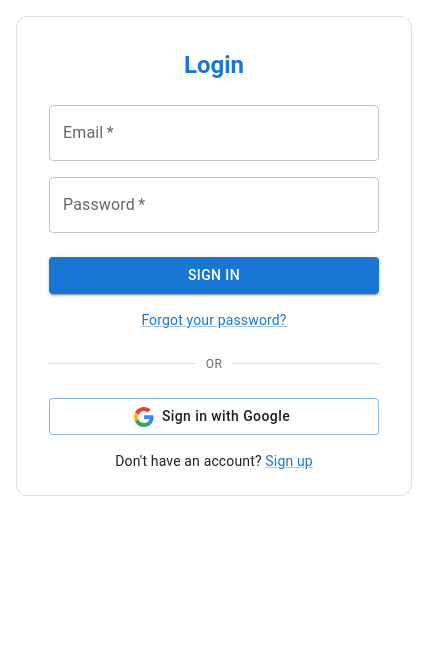
Test: Login — unconfirmed-account branch (SMA-320) › shows the dedicated message and the resend action on the gate sentinel
Type "alex@example.com" into the field labelled "Email *". click: (214, 133)
box: left=49, top=105, right=379, bottom=161
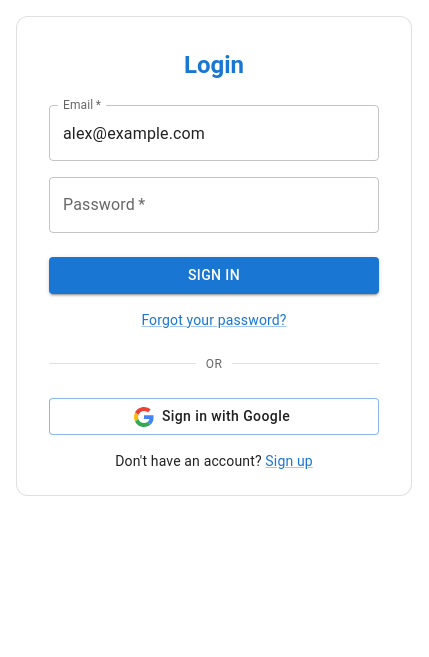
Type "Str0ng!Pass" into the password field labelled "Password *". click: (214, 205)
box: left=49, top=177, right=379, bottom=233
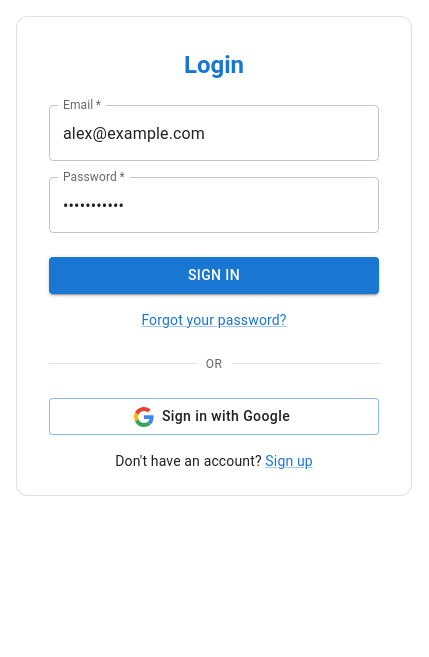
Click the button "Sign In". click: click(214, 275)
box: left=49, top=257, right=379, bottom=294
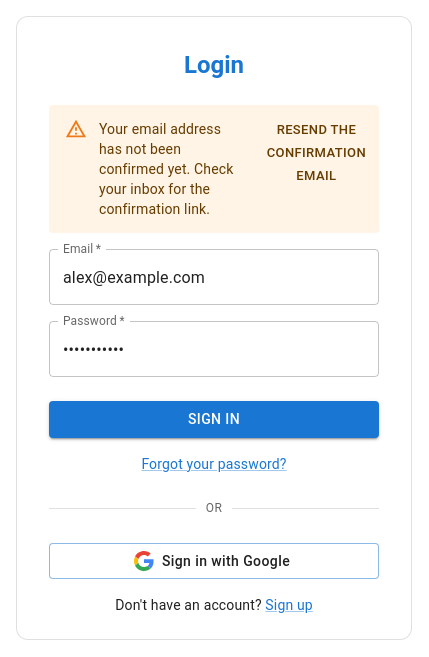
Expected: the text "Your email address has not been confirmed yet. Check your inbox for the confirmation link." is shown, left=99, top=121, right=234, bottom=217
Expected: the button "Resend the confirmation email" is shown, left=262, top=115, right=371, bottom=191
